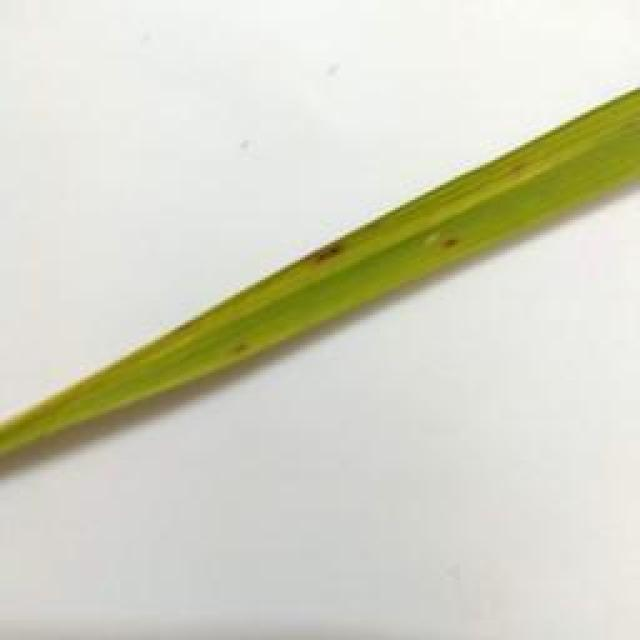Brown_Spot: (281, 228, 353, 277), (218, 336, 260, 367), (497, 158, 527, 184), (433, 229, 465, 253)
